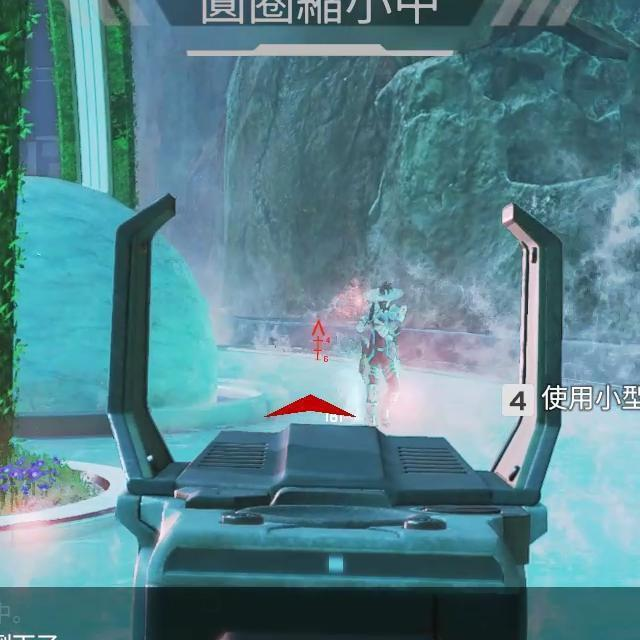avatar: (354, 282, 411, 427)
